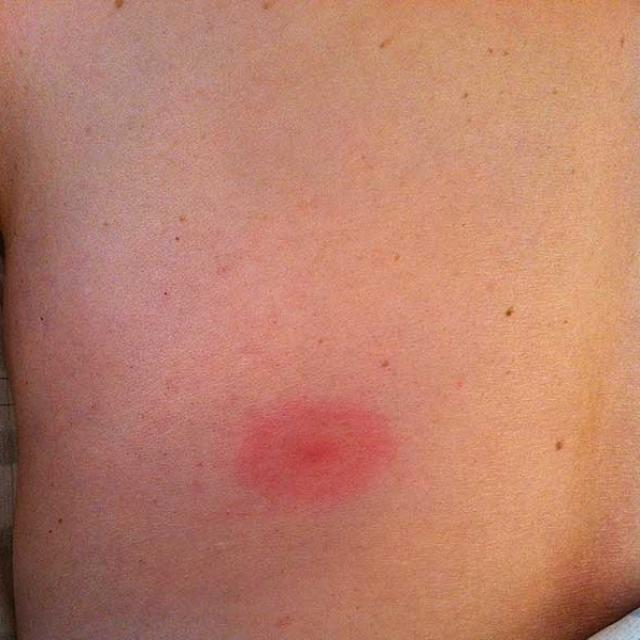kene: (229, 394, 401, 520)
